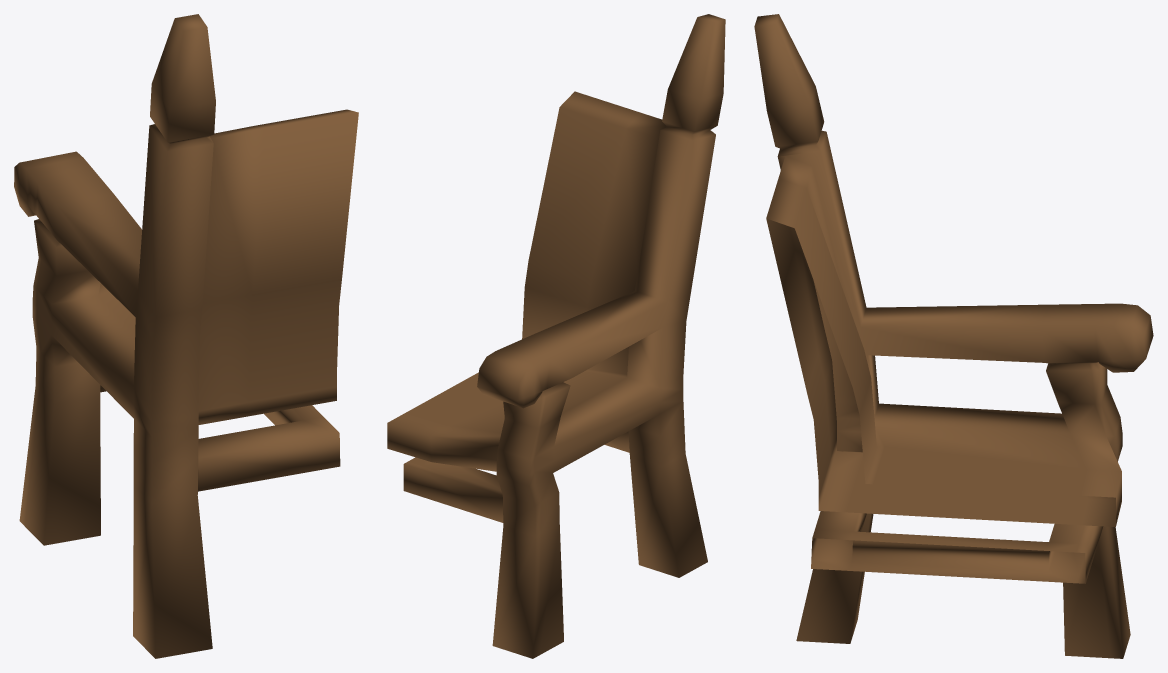
File: Kitchen_Chair_Big.glb
3 views of the same model, side by side, from view 1: azimuth 30°, elevation 25°; view 2: azimuth 150°, elevation 25°; view 3: azimuth 270°, elevation 25° (orthographic). The views are drawn at different scales.
Visible parts, largest first — view 1: Kitchen_Chair_Big; view 2: Kitchen_Chair_Big; view 3: Kitchen_Chair_Big.
Boxes of the visible parts, bbox=[...] form: Kitchen_Chair_Big: bbox=[14, 14, 358, 658]; Kitchen_Chair_Big: bbox=[387, 14, 725, 658]; Kitchen_Chair_Big: bbox=[754, 14, 1153, 658].
Size of the model in its own units: 0.333 by 0.9068 by 0.5417.
